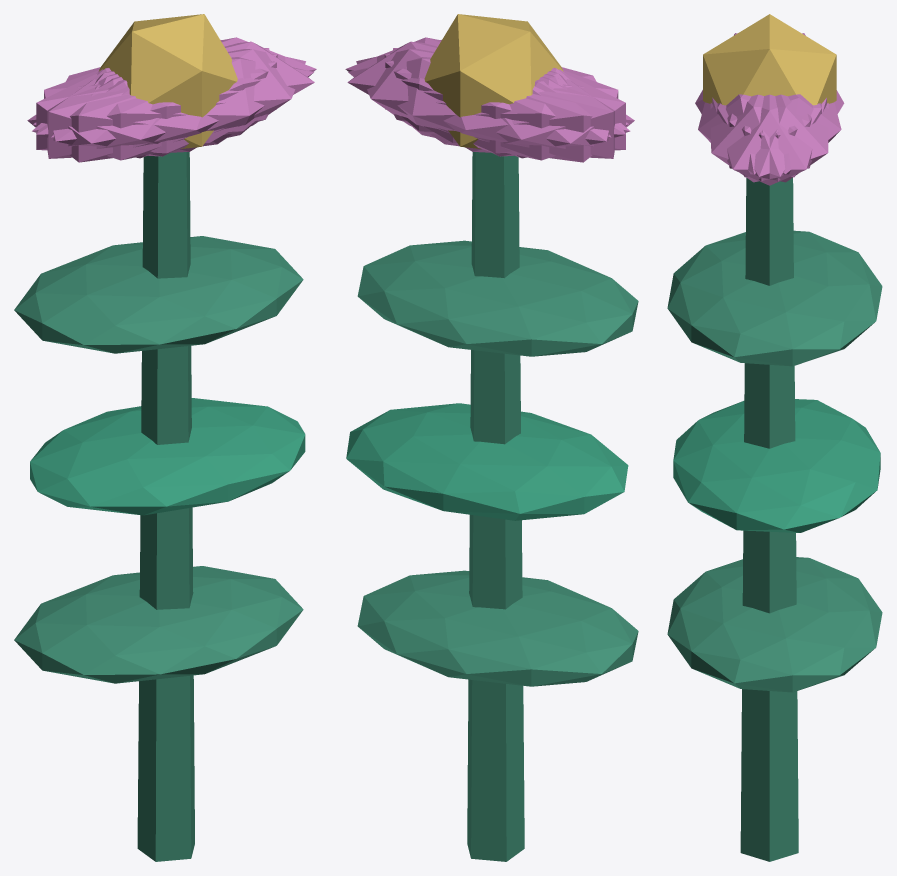
Rendered from ipomoea-batatas.glb.
3 renders of one model, left to right at view 1: azimuth 30°, elevation 25°; view 2: azimuth 150°, elevation 25°; view 3: azimuth 270°, elevation 25°, orthographic.
Parts seen in each view (by area): view 1: stem, leaf2, leaf0, leaf1, center, petal1, petal6, petal2, petal5, petal7, petal0, petal4 (+2 smaller); view 2: stem, leaf1, leaf2, leaf0, center, petal8, petal3, petal7, petal4, petal2, petal0, petal5 (+2 smaller); view 3: stem, leaf2, leaf1, leaf0, center, petal0, petal4, petal5, petal1, petal8.
Boxes of the visible parts, x1,y1,x2,y2 form: stem: (137, 152, 194, 861); leaf2: (14, 236, 303, 353); leaf0: (14, 566, 303, 683); leaf1: (30, 398, 305, 515); center: (98, 14, 237, 148); petal1: (32, 57, 313, 160); petal6: (27, 69, 231, 162); petal2: (47, 48, 269, 158); petal5: (51, 49, 305, 153); petal7: (36, 53, 277, 156); petal0: (98, 41, 314, 143); petal4: (33, 37, 316, 134); stem: (467, 152, 524, 861); leaf1: (346, 403, 628, 520); leaf2: (357, 240, 638, 356); leaf0: (357, 570, 638, 686); center: (424, 14, 563, 148); petal8: (348, 57, 630, 160); petal3: (430, 69, 634, 162); petal7: (393, 48, 614, 158); petal4: (356, 49, 611, 153); petal2: (384, 53, 625, 156); petal0: (347, 41, 563, 143); petal5: (345, 37, 628, 134); stem: (740, 177, 798, 861); leaf2: (667, 230, 882, 366); leaf1: (673, 399, 880, 532); leaf0: (667, 557, 882, 692); center: (703, 14, 836, 105); petal0: (712, 94, 826, 185); petal4: (717, 94, 828, 182); petal5: (710, 94, 821, 182); petal1: (698, 94, 811, 174); petal8: (727, 94, 841, 174).
Size of the model in its own units: 0.1452 by 0.4132 by 0.0985.
